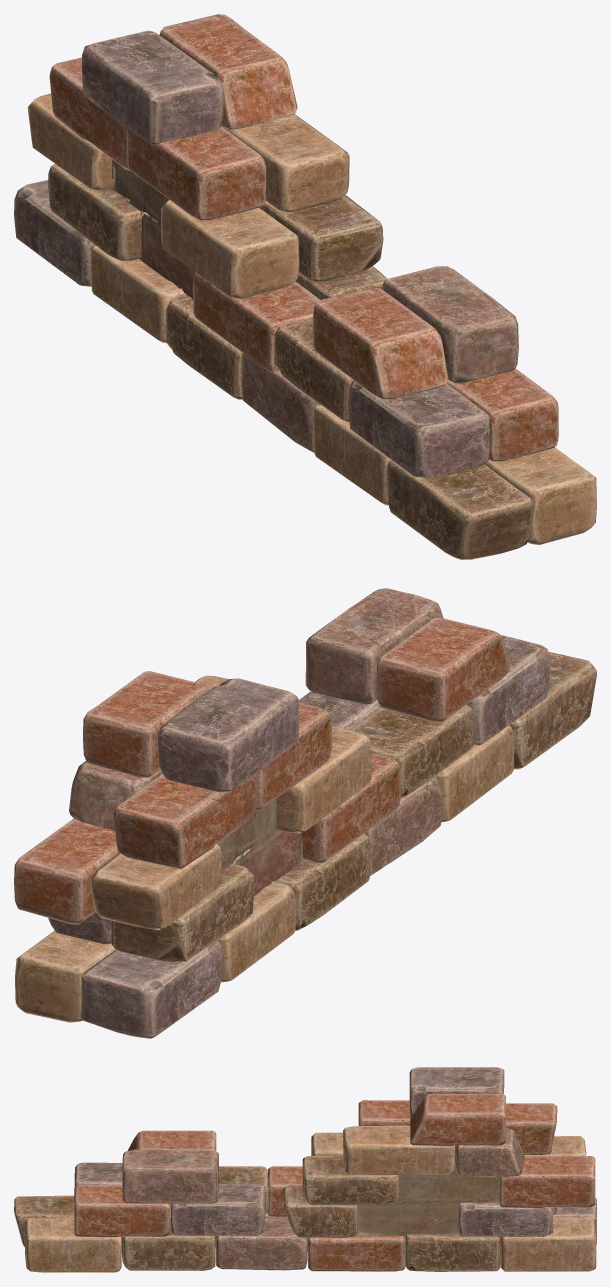
The picture shows the model from 3 angles, top to bottom: view 1: azimuth 30°, elevation 25°; view 2: azimuth 150°, elevation 25°; view 3: azimuth 270°, elevation 25°; orthographic projection. The views are drawn at different scales.
Parts seen in each view (by area): view 1: SM_Human_Ruins_Brick_Dmg_02_LOD0; view 2: SM_Human_Ruins_Brick_Dmg_02_LOD0; view 3: SM_Human_Ruins_Brick_Dmg_02_LOD0.
Part boxes in pixels (bbox=[...]): SM_Human_Ruins_Brick_Dmg_02_LOD0: bbox=[14, 14, 596, 559]; SM_Human_Ruins_Brick_Dmg_02_LOD0: bbox=[14, 588, 596, 1038]; SM_Human_Ruins_Brick_Dmg_02_LOD0: bbox=[14, 1067, 596, 1272].
Bounding box in the file's own units: 0.3783 × 0.6047 × 1.97.
Materials: 2 (2 with a texture image).
